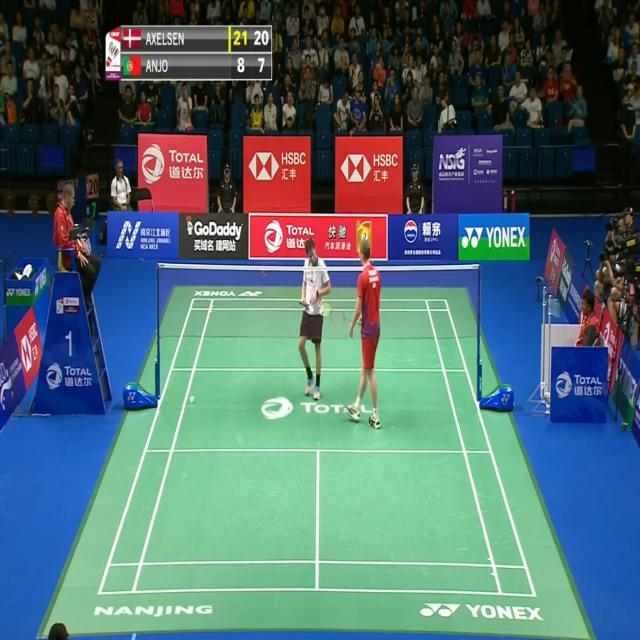Player1: (344, 238, 389, 446)
Player2: (294, 233, 334, 405)
